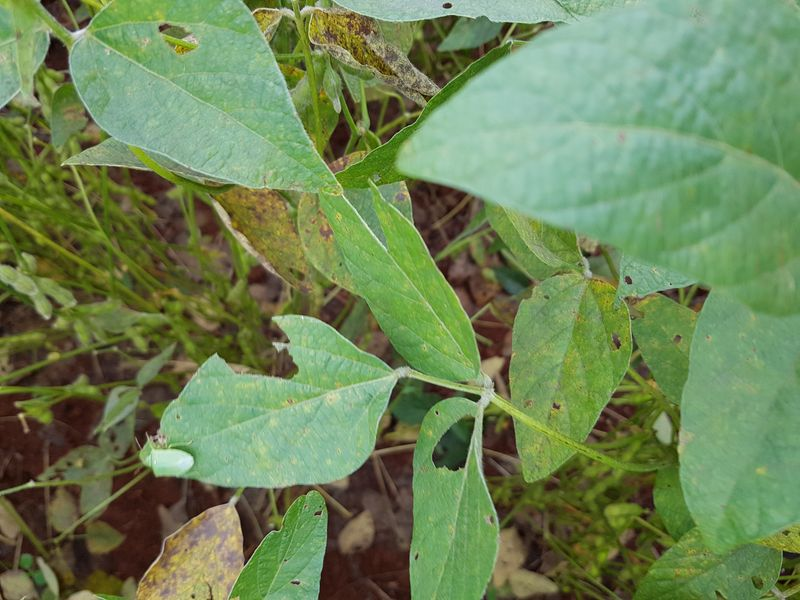Nezara_viridula_adulto: (127, 428, 204, 488)
